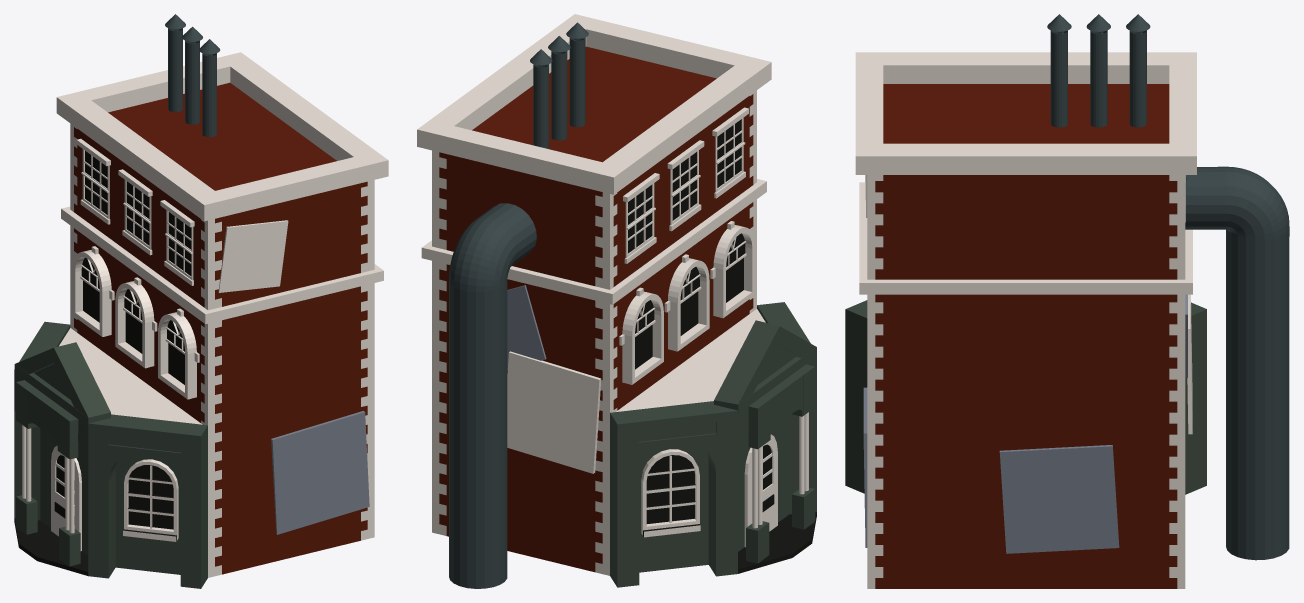
Rendered from Building 1.fbx.
The picture shows the model from 3 angles, left to right: view 1: azimuth 30°, elevation 25°; view 2: azimuth 150°, elevation 25°; view 3: azimuth 270°, elevation 25°; orthographic projection. The views are drawn at different scales.
Visible parts, largest first — view 1: Arch; view 2: Arch; view 3: Arch.
Part boxes in pixels (x1,y1,x2,y2): Arch: (14, 14, 388, 588); Arch: (417, 14, 816, 588); Arch: (845, 14, 1289, 588).
Size of the model in its own units: 1204 by 1836 by 1397.
